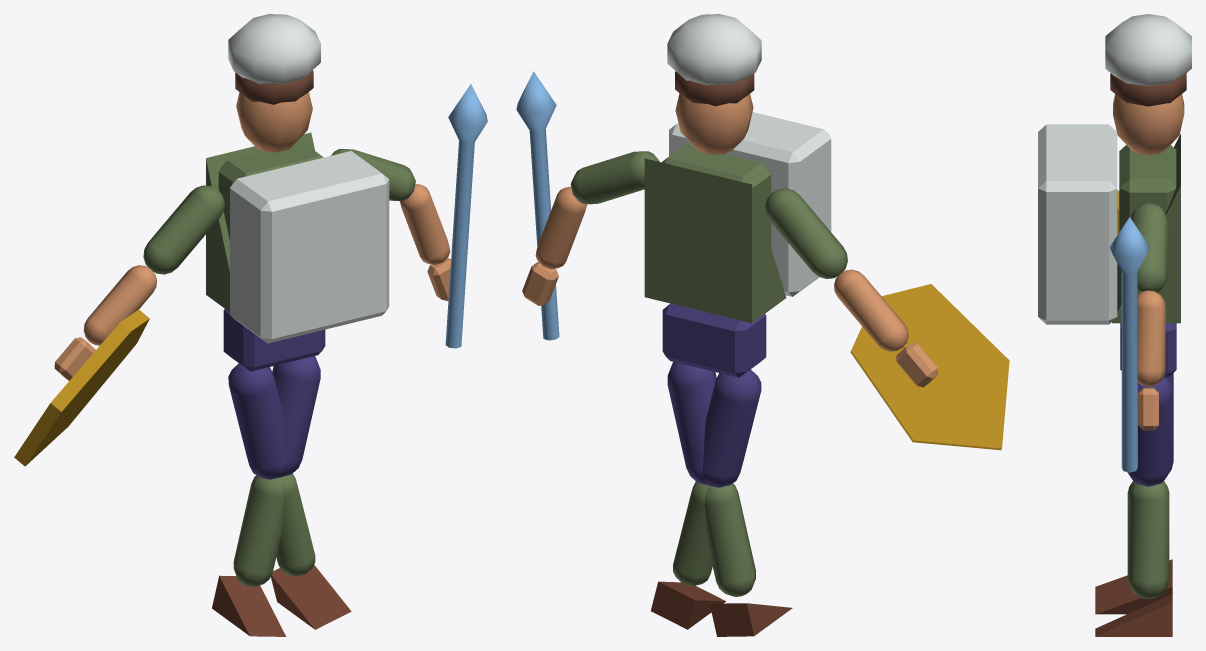
The model's file is adventurer.rustic.glb.
3 views of the same model, side by side, from view 1: azimuth 30°, elevation 25°; view 2: azimuth 150°, elevation 25°; view 3: azimuth 270°, elevation 25° (orthographic).
Visible parts, largest first — view 1: accessory.body, accessory.head, accessory.off-hand, accessory.main-hand, thigh.left, shin.right, upper-arm.left, thigh.right, head, pelvis, foot.left, tunic (+9 smaller); view 2: tunic, accessory.off-hand, accessory.body, pelvis, accessory.head, thigh.left, shin.right, upper-arm.left, accessory.main-hand, thigh.right, head, forearm.left (+9 smaller); view 3: accessory.body, accessory.head, accessory.main-hand, shin.left, torso, head, thigh.right, forearm.right, upper-arm.right, tunic, foot.left, foot.right (+3 smaller).
Boxes of the visible parts, x1=… form: accessory.body: x1=230, y1=151, x2=389, y2=343; accessory.head: x1=228, y1=14, x2=320, y2=84; accessory.off-hand: x1=14, y1=309, x2=149, y2=466; accessory.main-hand: x1=445, y1=84, x2=487, y2=348; thigh.left: x1=228, y1=363, x2=285, y2=479; shin.right: x1=233, y1=475, x2=283, y2=586; upper-arm.left: x1=143, y1=185, x2=224, y2=274; thigh.right: x1=272, y1=356, x2=320, y2=477; head: x1=236, y1=92, x2=312, y2=152; pelvis: x1=223, y1=309, x2=325, y2=371; foot.left: x1=271, y1=565, x2=351, y2=629; tunic: x1=206, y1=132, x2=314, y2=311; tunic: x1=644, y1=158, x2=786, y2=323; accessory.off-hand: x1=850, y1=284, x2=1009, y2=450; accessory.body: x1=669, y1=112, x2=831, y2=296; pelvis: x1=662, y1=303, x2=766, y2=377; accessory.head: x1=667, y1=14, x2=761, y2=85; thigh.left: x1=703, y1=369, x2=761, y2=487; shin.right: x1=705, y1=483, x2=755, y2=596; upper-arm.left: x1=765, y1=188, x2=847, y2=278; accessory.main-hand: x1=516, y1=71, x2=559, y2=340; thigh.right: x1=667, y1=362, x2=716, y2=485; head: x1=675, y1=93, x2=753, y2=154; forearm.left: x1=834, y1=269, x2=908, y2=351; accessory.body: x1=1038, y1=124, x2=1117, y2=324; accessory.head: x1=1105, y1=14, x2=1191, y2=86; accessory.main-hand: x1=1109, y1=217, x2=1149, y2=472; shin.left: x1=1127, y1=482, x2=1169, y2=598; torso: x1=1119, y1=145, x2=1176, y2=298; head: x1=1113, y1=94, x2=1184, y2=155; thigh.right: x1=1127, y1=377, x2=1173, y2=486; forearm.right: x1=1138, y1=290, x2=1165, y2=386; upper-arm.right: x1=1130, y1=202, x2=1168, y2=292; tunic: x1=1112, y1=133, x2=1180, y2=323; foot.left: x1=1095, y1=594, x2=1172, y2=636; foot.right: x1=1095, y1=559, x2=1172, y2=614.
Size of the model in its own units: 2.65 by 3.18 by 0.738.
